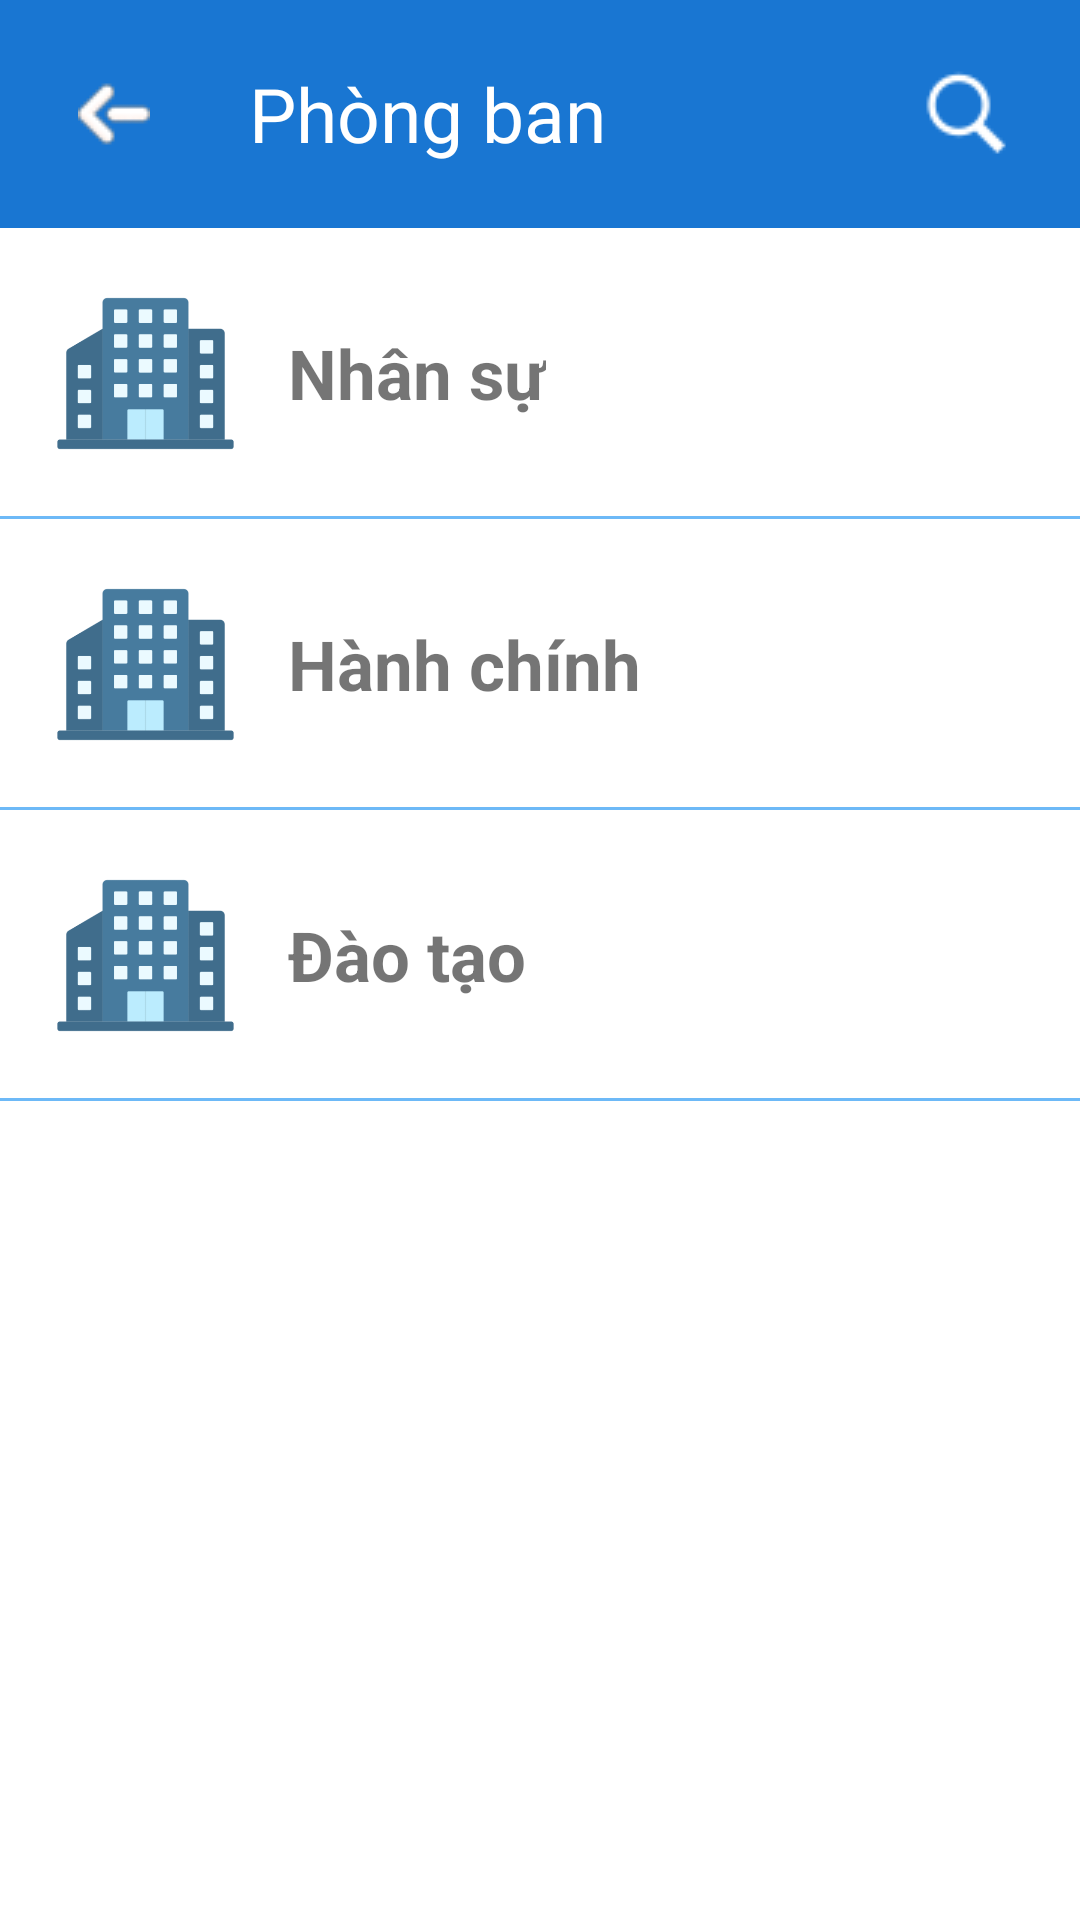

Named icons in this screenshot (1080px x 1920px) and their bounding boxes, [x1=x1, y1=y1, x2=x2, y2=y2]:
arrowleft: [x1=78, y1=83, x2=150, y2=145]
doanhnghiep: [x1=57, y1=298, x2=234, y2=449], [x1=57, y1=589, x2=234, y2=740], [x1=57, y1=880, x2=234, y2=1031]
search: [x1=926, y1=72, x2=1006, y2=154]
